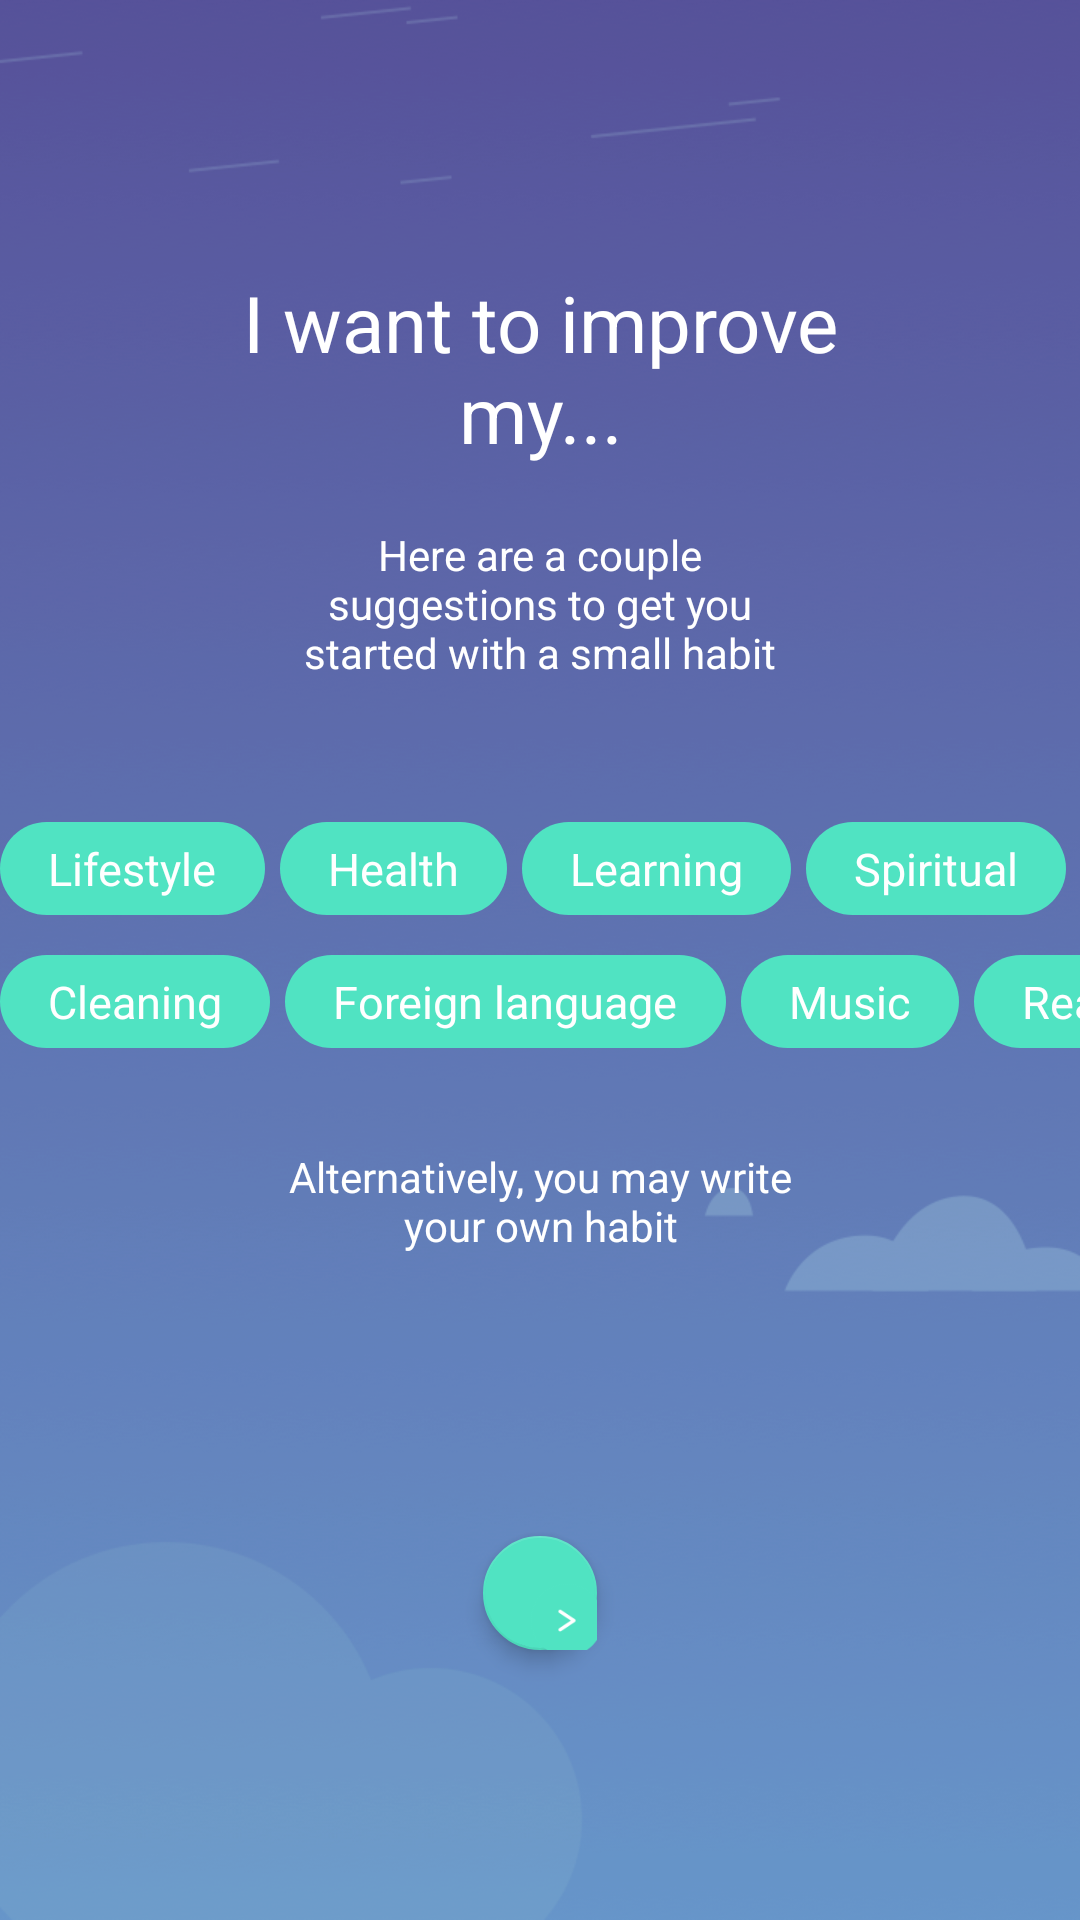

Named icons in this screenshot (1080×1920) and their centers, point (x, y):
steps next: point (540, 1593)
